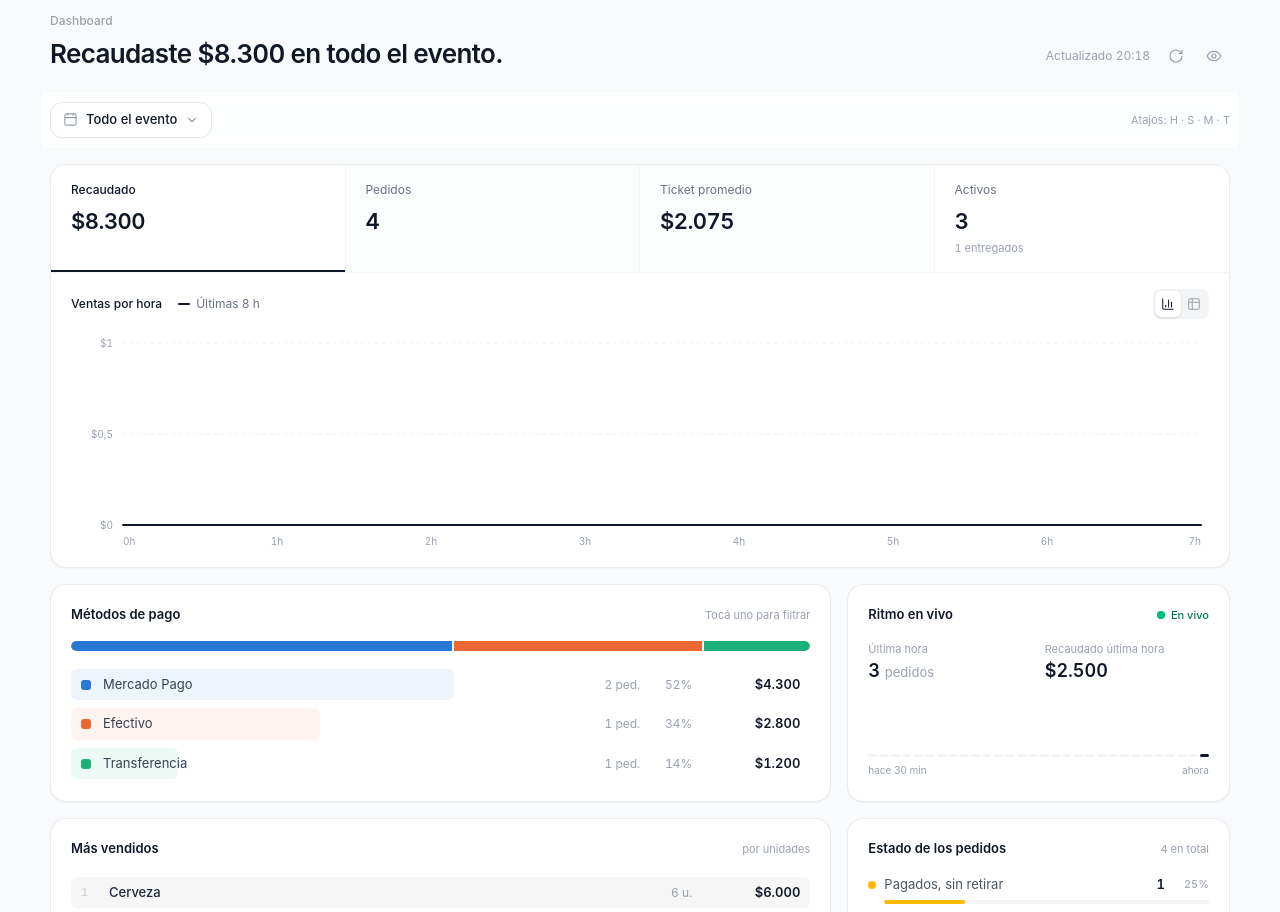
DashboardView › filtro cruzado › tocar un producto filtra por ese producto
The image size is (1280, 912).
Expected: the heading "Estado de los pedidos" is shown, [868,839,1006,859]
Click the button "1 Cerveza 6 u. $6.000".
click(441, 893)  # box [71,875,810,910]
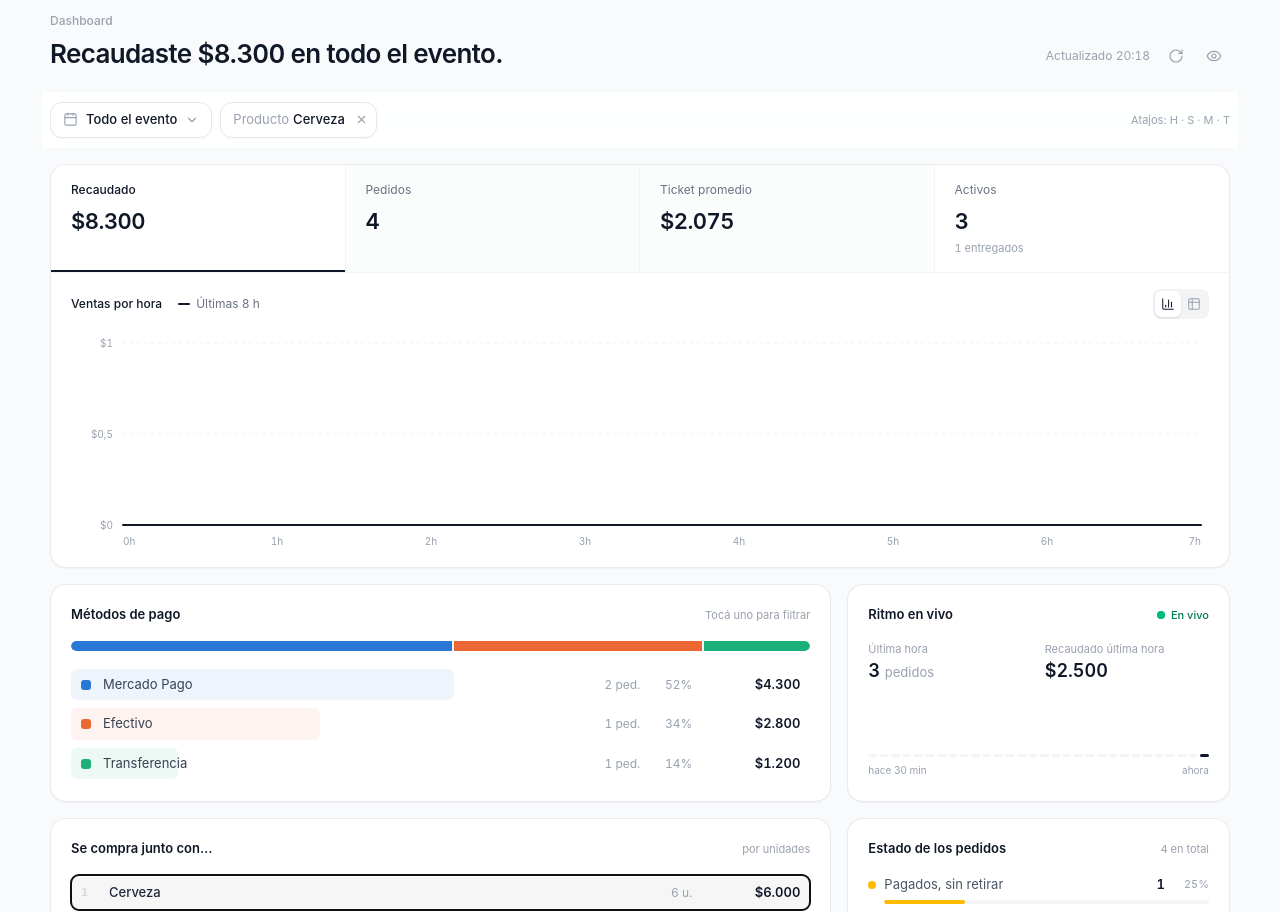
Now the heading "Se compra junto con…" is shown, box [71,839,212,859]
